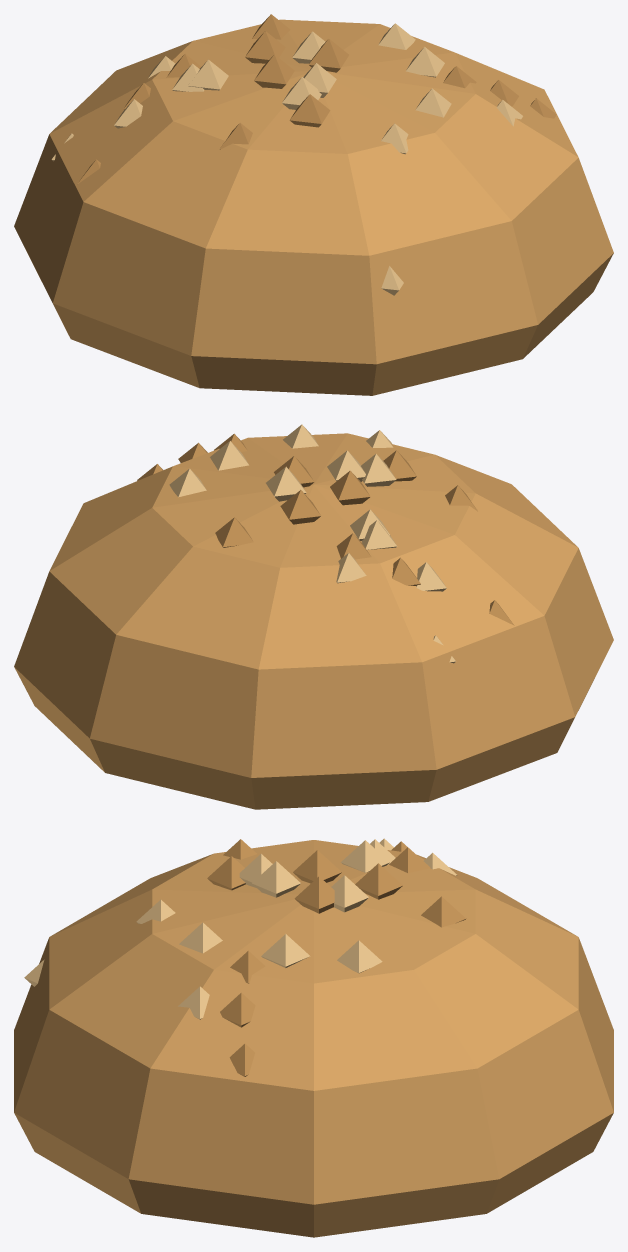
The model's file is Food_SoboroBun.obj.
3 renders of one model, top to bottom at view 1: azimuth 30°, elevation 25°; view 2: azimuth 150°, elevation 25°; view 3: azimuth 270°, elevation 25°, orthographic. The views are drawn at different scales.
Bounding box in the file's own units: 2.04 × 0.8781 × 1.94.
